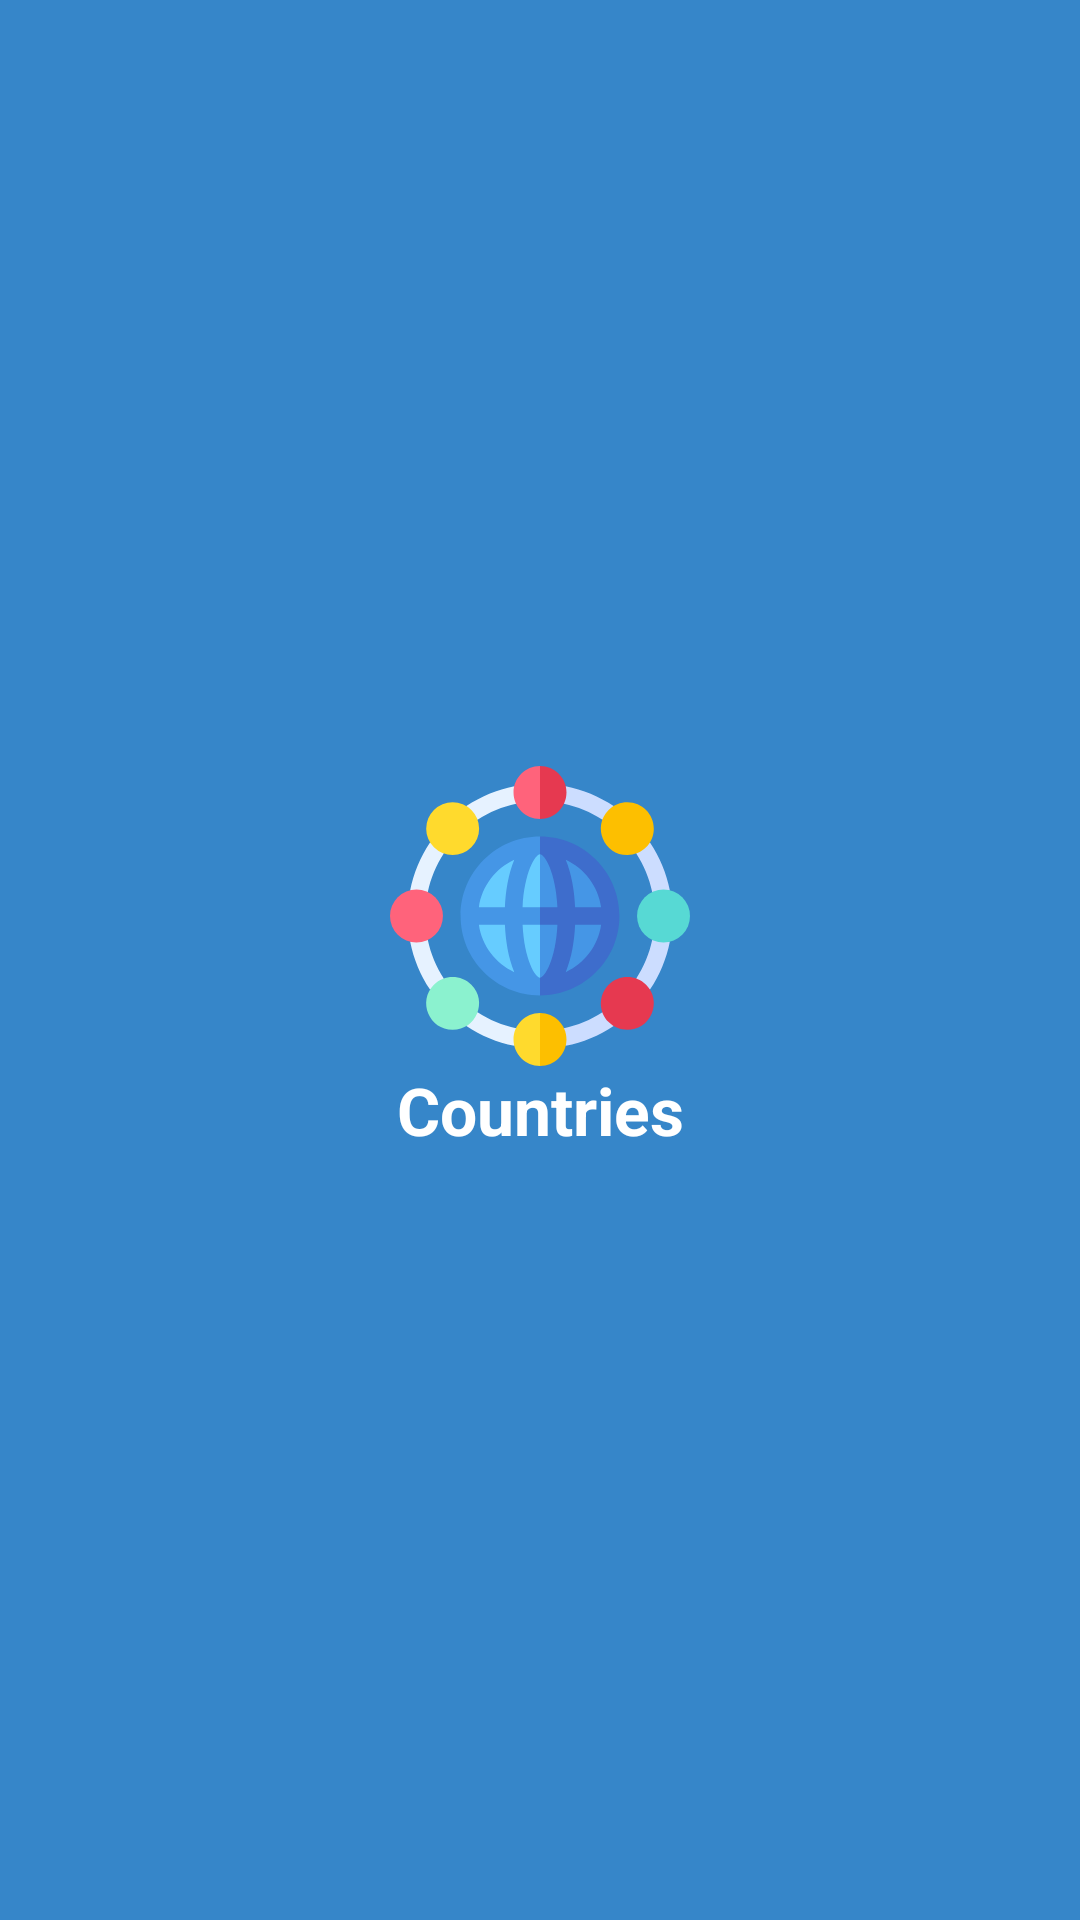

Named icons in this screenshot (1080×1920) and their centers, (x,y):
app: (540,916)
